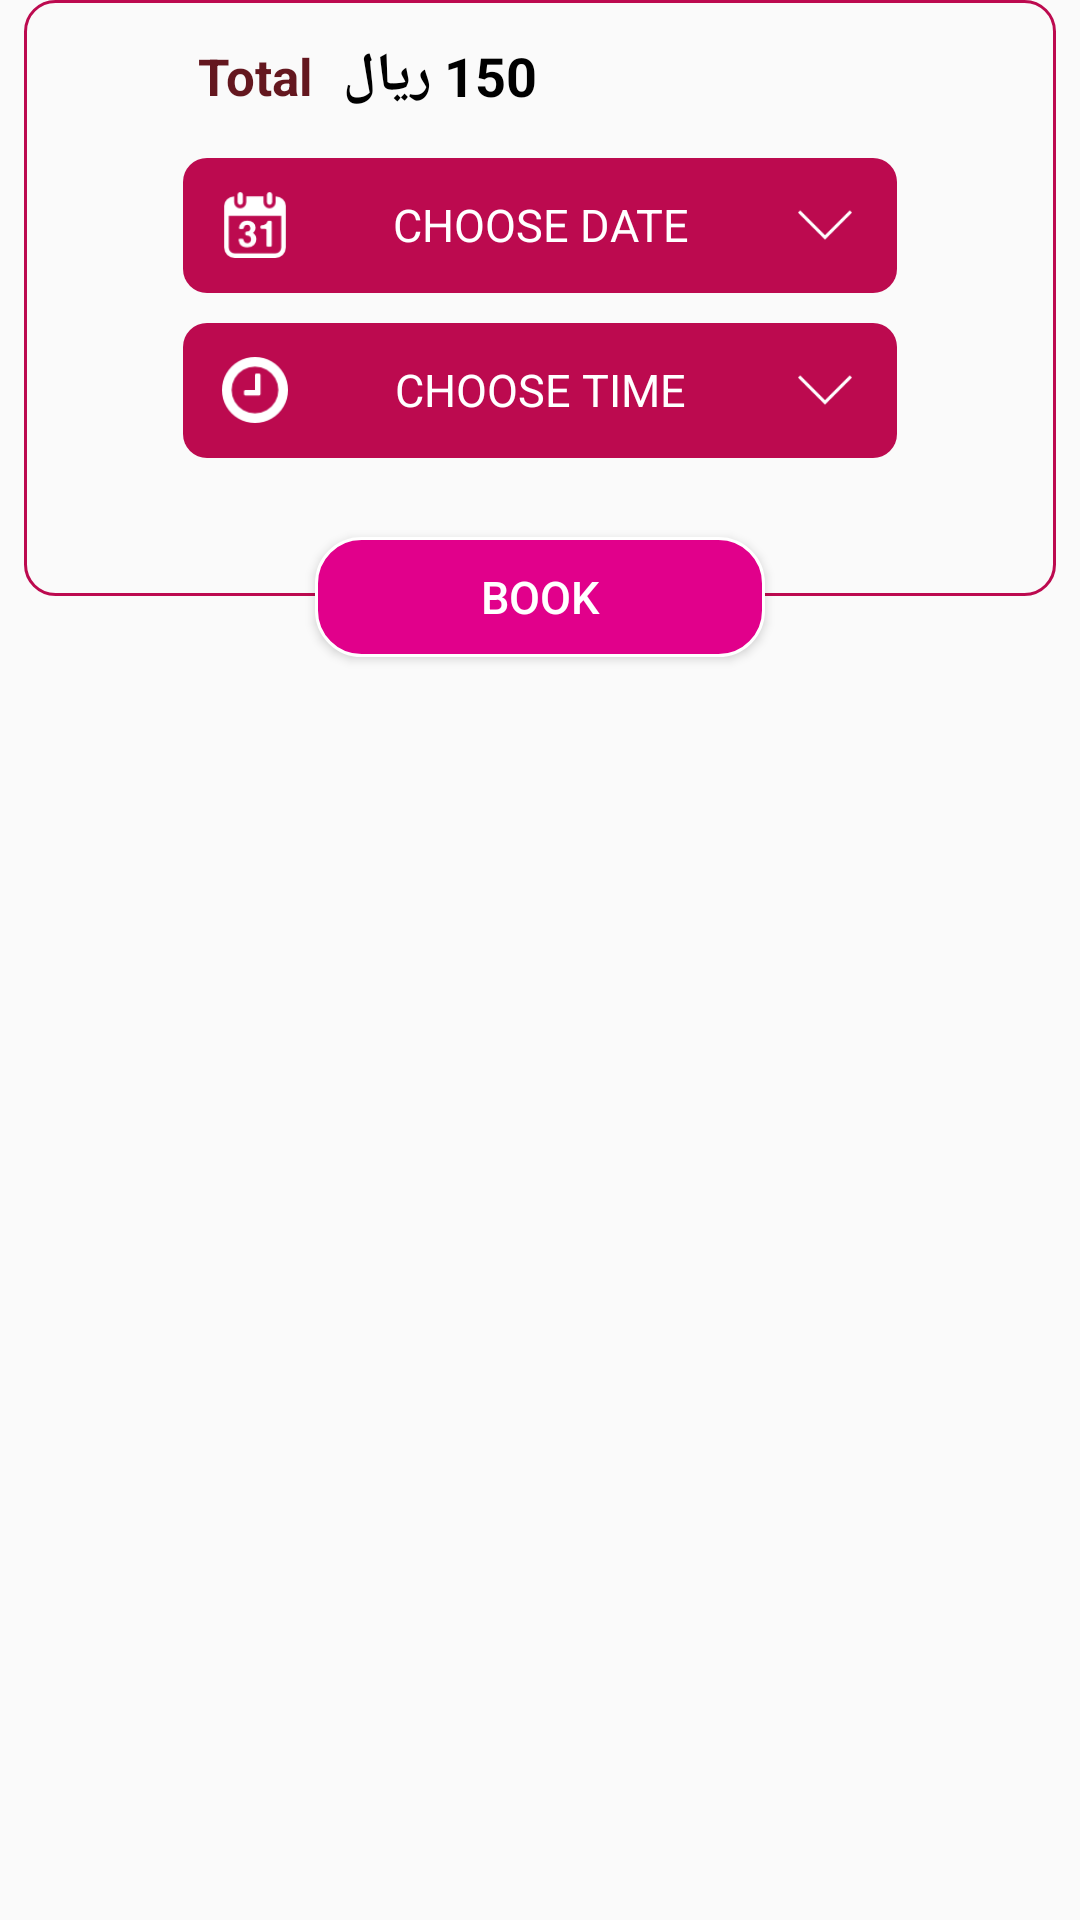

Named icons in this screenshot (1080×1920) and their bounding boxes, (x1, y1, x2, y2):
botom arrow: (798, 210, 852, 240), (798, 375, 852, 405)
calendar: (224, 192, 286, 258)
clock: (222, 357, 288, 423)
